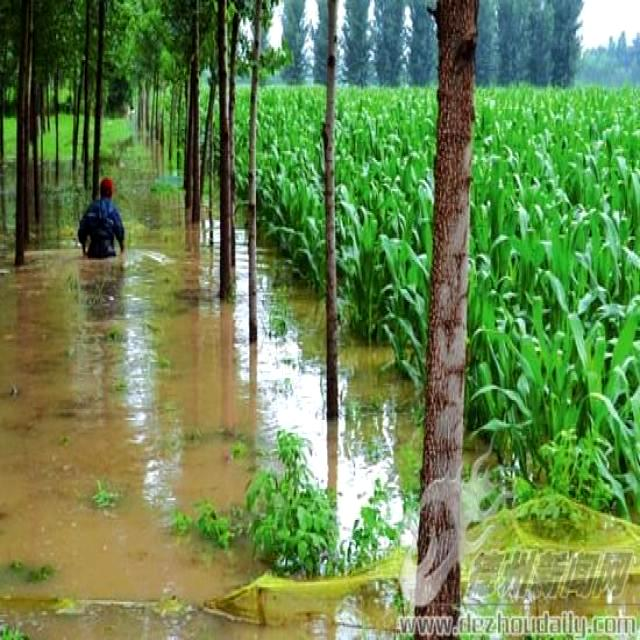civilian: (76, 167, 128, 268)
